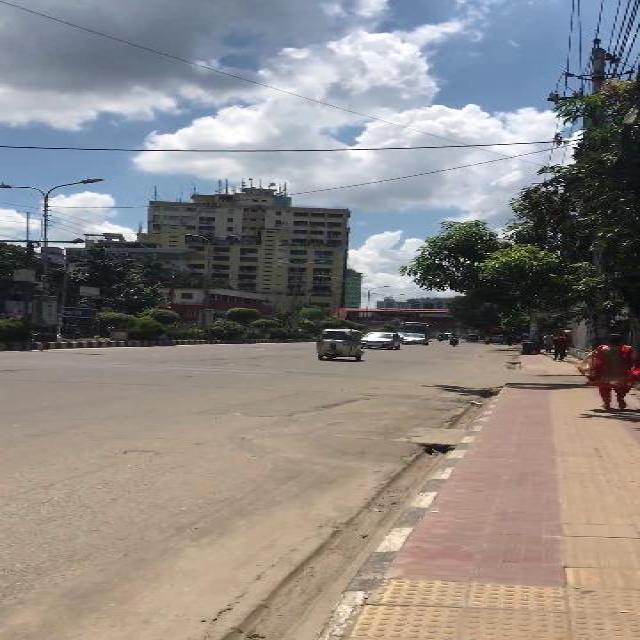bike: (449, 333, 460, 347)
vehicle: (315, 327, 363, 361), (361, 332, 402, 351), (400, 322, 430, 335), (402, 333, 428, 346)
